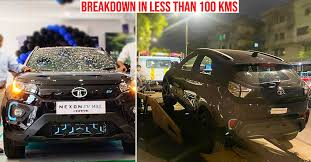Tata Nexon: (161, 45, 311, 154), (4, 42, 136, 158)
